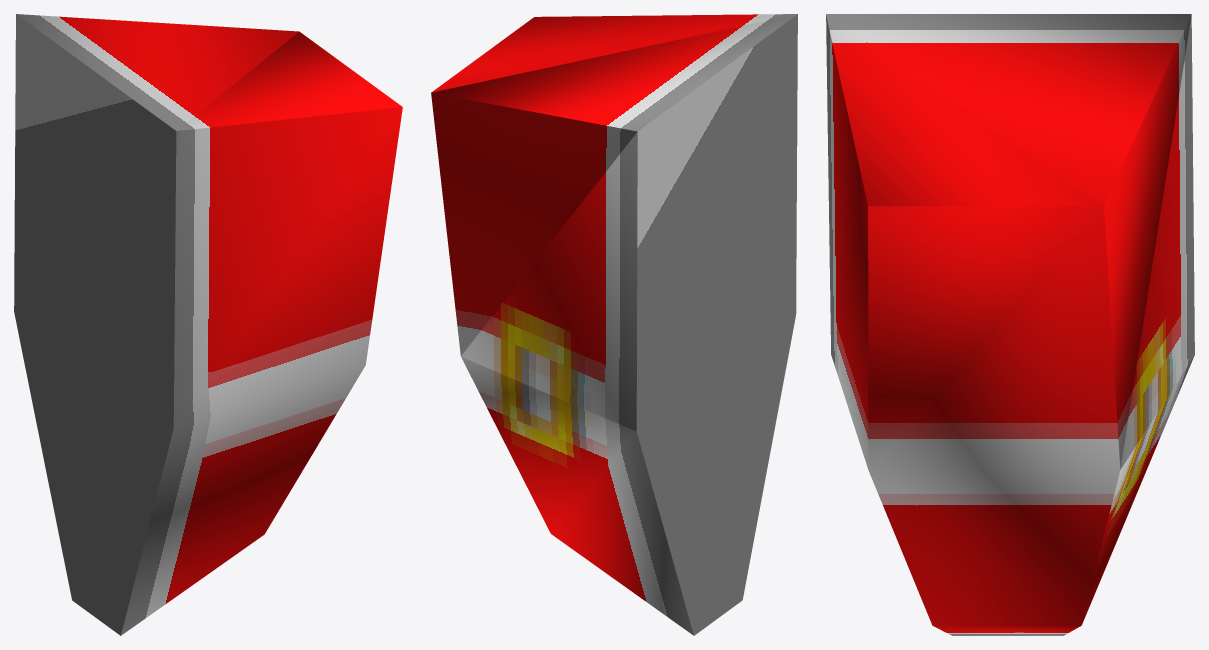
File: FootL.obj
3 views of the same model, side by side, from view 1: azimuth 30°, elevation 25°; view 2: azimuth 150°, elevation 25°; view 3: azimuth 270°, elevation 25° (orthographic). The views are drawn at different scales.
Bounding box in the file's own units: 1.11 × 2.37 × 1.27.
Materials: 2 (2 with a texture image).
